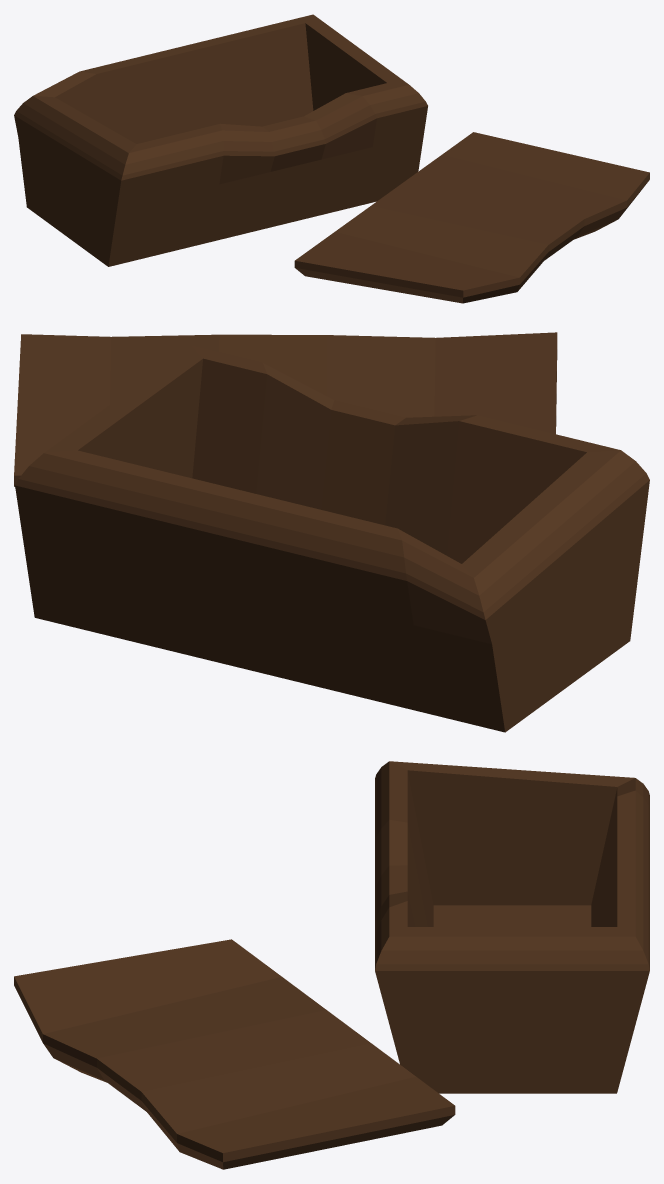
Rendered from open tomb2.fbx.
3 renders of one model, top to bottom at view 1: azimuth 30°, elevation 25°; view 2: azimuth 150°, elevation 25°; view 3: azimuth 270°, elevation 25°, orthographic. The views are drawn at different scales.
Parts seen in each view (by area): view 1: Cube.044, Cube.045; view 2: Cube.044, Cube.045; view 3: Cube.044, Cube.045.
Part boxes in pixels (x1,y1,x2,y2): Cube.044: (14,14,427,266); Cube.045: (294,132,649,303); Cube.044: (15,345,649,732); Cube.045: (14,332,557,486); Cube.044: (375,761,649,1093); Cube.045: (14,939,455,1169).
Bounding box in the file's own units: 664 × 157 × 607.
